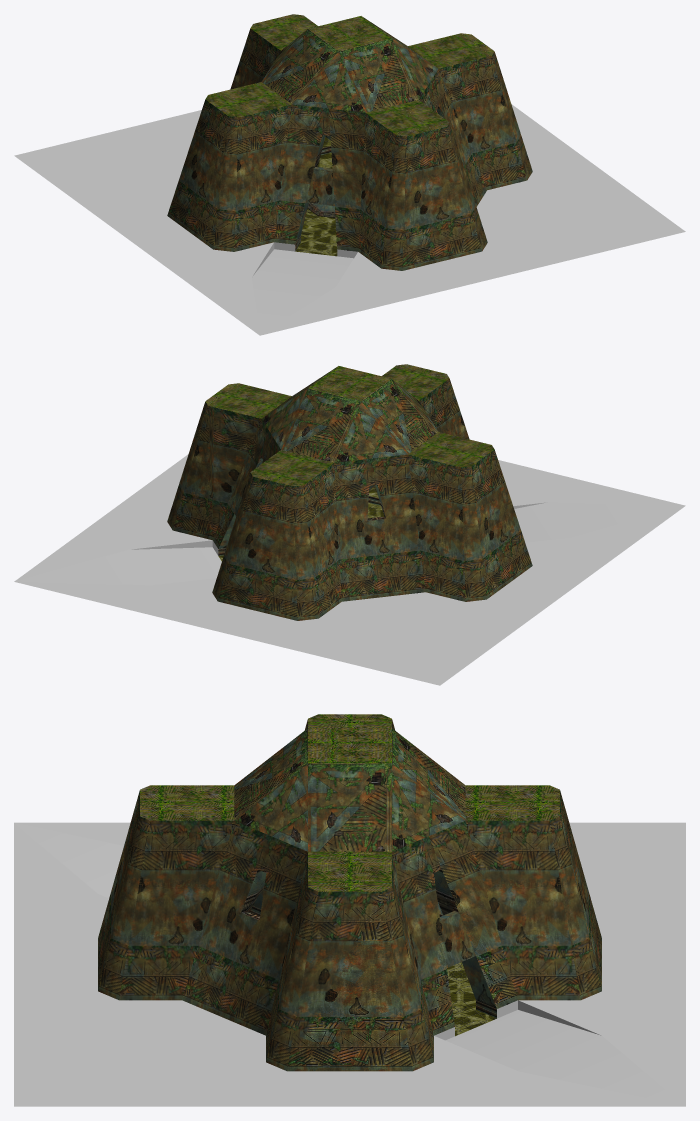
The model's file is mbruine3.FBX.
3 renders of one model, top to bottom at view 1: azimuth 30°, elevation 25°; view 2: azimuth 150°, elevation 25°; view 3: azimuth 270°, elevation 25°, orthographic. The views are drawn at different scales.
Visible parts, largest first — view 1: mbruine3, terrain, dome, roof, floor; view 2: mbruine3, terrain, dome, roof; view 3: terrain, mbruine3, dome, roof, interior, floor.
Boxes of the visible parts, x1=… form: mbruine3: x1=167, y1=28, x2=532, y2=270; terrain: x1=14, y1=104, x2=685, y2=335; dome: x1=261, y1=17, x2=438, y2=112; roof: x1=205, y1=14, x2=494, y2=136; floor: x1=295, y1=137, x2=337, y2=256; mbruine3: x1=167, y1=378, x2=532, y2=620; terrain: x1=14, y1=454, x2=685, y2=685; dome: x1=261, y1=367, x2=438, y2=462; roof: x1=205, y1=364, x2=494, y2=486; terrain: x1=14, y1=822, x2=685, y2=1106; mbruine3: x1=98, y1=719, x2=601, y2=1071; dome: x1=234, y1=728, x2=465, y2=851; roof: x1=140, y1=714, x2=559, y2=891; interior: x1=241, y1=869, x2=496, y2=1008; floor: x1=447, y1=962, x2=496, y2=1036.
Size of the model in its own units: 64 by 24.67 by 64.
